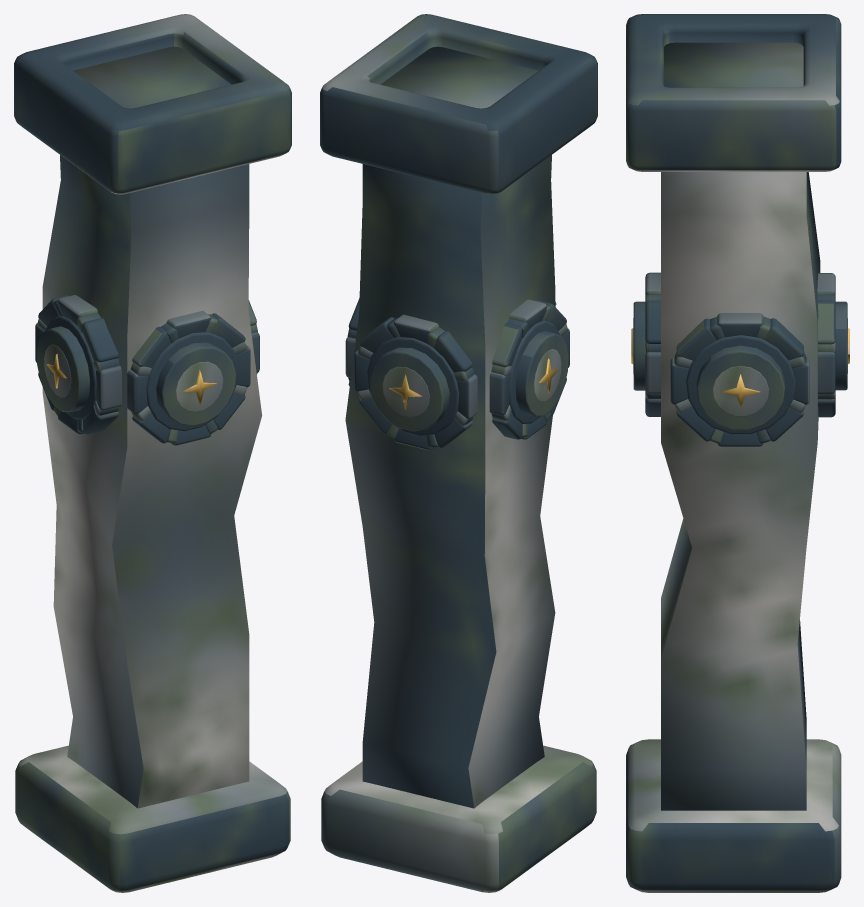
File: Pilaar2.fbx
3 renders of one model, left to right at view 1: azimuth 30°, elevation 25°; view 2: azimuth 150°, elevation 25°; view 3: azimuth 270°, elevation 25°, orthographic. The views are drawn at different scales.
Visible parts, largest first — view 1: Cube.004; view 2: Cube.004; view 3: Cube.004.
Boxes of the visible parts, bbox=[...] form: Cube.004: bbox=[14, 14, 291, 892]; Cube.004: bbox=[320, 14, 597, 892]; Cube.004: bbox=[626, 14, 849, 892].
Bounding box in the file's own units: 64.09 × 257 × 65.33.
